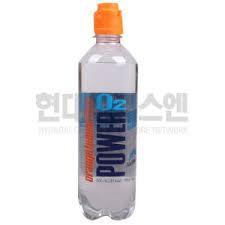powerO2_orange: (77, 0, 140, 223)
